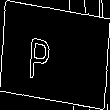P_N: (43, 28, 67, 82)
